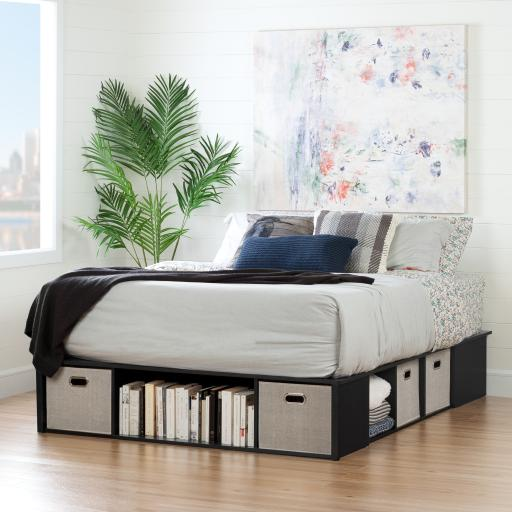bed: (24, 210, 492, 461)
